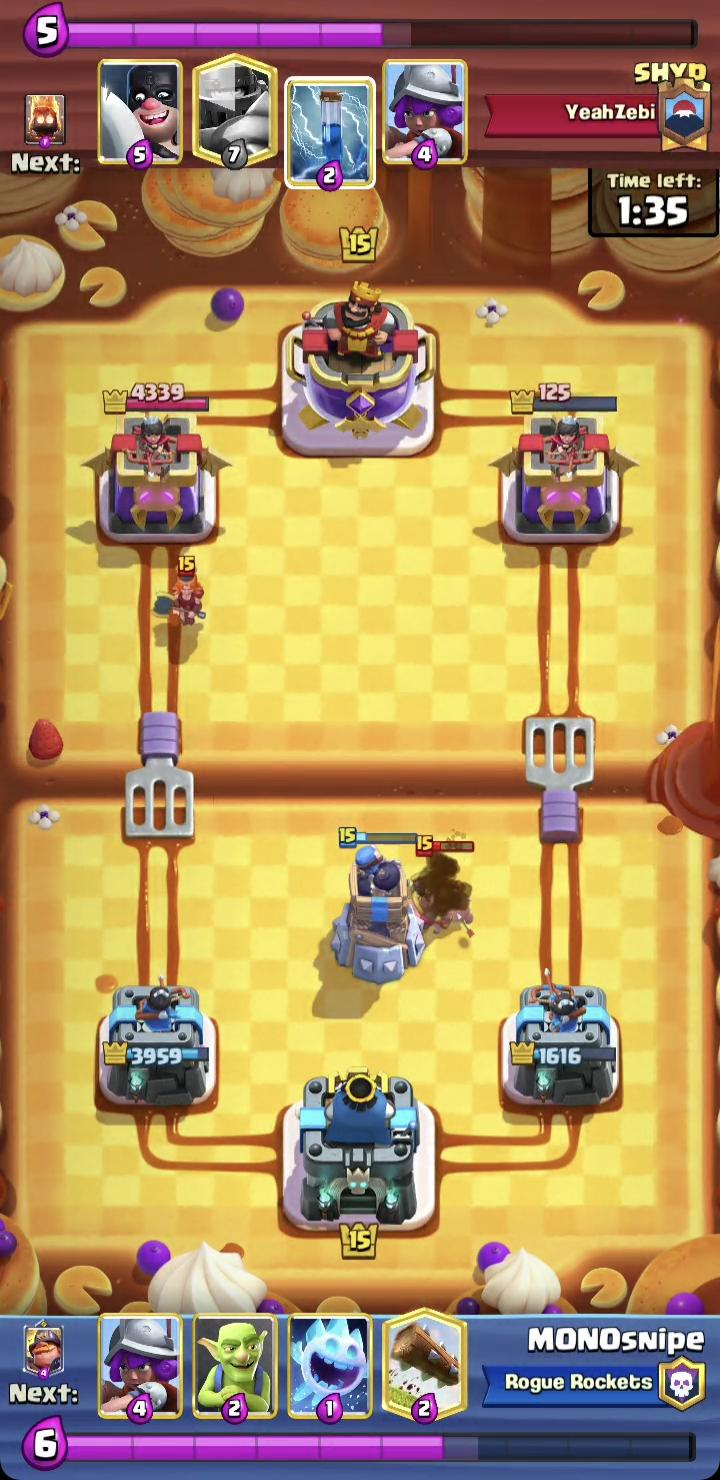ally_bombtower: (330, 826, 427, 985)
enemy_hog: (403, 836, 477, 937)
enemy_valkyrie: (152, 554, 209, 631)
